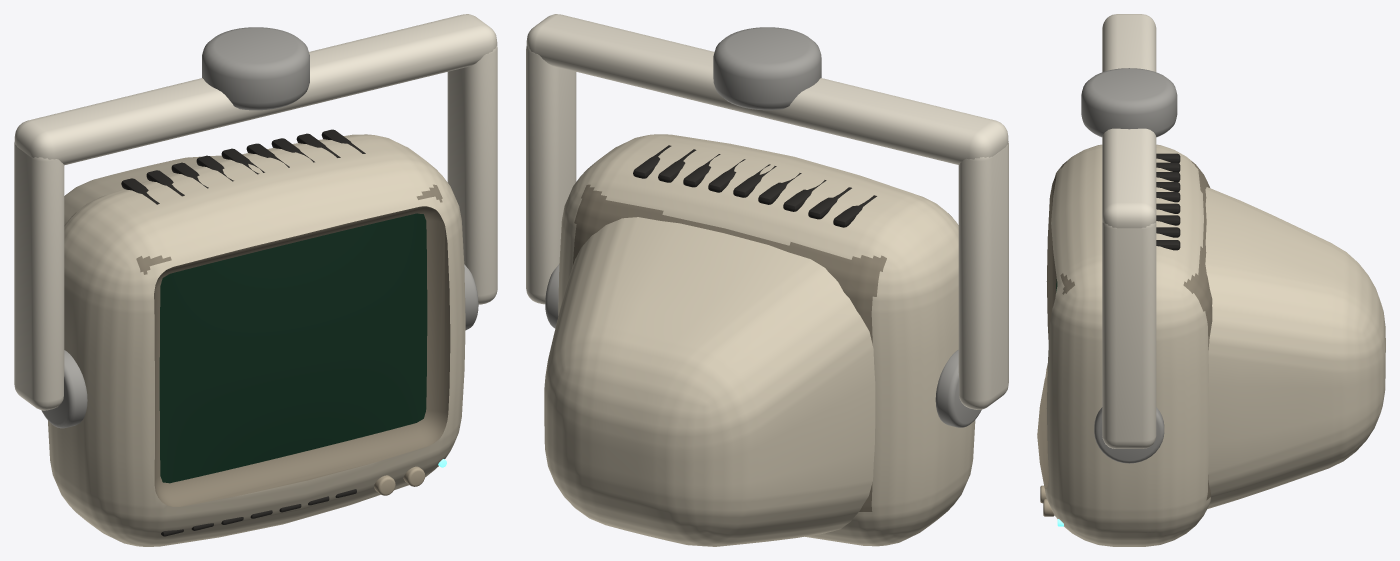
Rendered from monitor.glb.
3 renders of one model, left to right at view 1: azimuth 30°, elevation 25°; view 2: azimuth 150°, elevation 25°; view 3: azimuth 270°, elevation 25°, orthographic. The views are drawn at different scales.
Visible parts, largest first — view 1: Body, Screen, YokeBar, YokeArmL, YokeArmR, Mount, Hood, HubL, HubR; view 2: Hood, Body, YokeBar, YokeArmL, YokeArmR, Mount, HubL, HubR; view 3: Body, Hood, YokeArmR, YokeBar, Mount, HubR.
Boxes of the visible parts, bbox=[...] form: Body: bbox=[48, 134, 465, 546]; Screen: bbox=[159, 213, 427, 483]; YokeBar: bbox=[14, 14, 497, 165]; YokeArmL: bbox=[14, 141, 64, 410]; YokeArmR: bbox=[447, 46, 497, 304]; Mount: bbox=[202, 27, 309, 110]; Hood: bbox=[64, 155, 223, 225]; HubL: bbox=[41, 350, 87, 428]; HubR: bbox=[464, 264, 478, 330]; Hood: bbox=[544, 217, 875, 546]; Body: bbox=[558, 134, 975, 546]; YokeBar: bbox=[526, 14, 1008, 164]; YokeArmL: bbox=[958, 141, 1008, 409]; YokeArmR: bbox=[526, 45, 576, 304]; Mount: bbox=[713, 27, 821, 110]; HubL: bbox=[935, 350, 981, 427]; HubR: bbox=[545, 264, 559, 328]; Body: bbox=[1037, 144, 1212, 546]; Hood: bbox=[1205, 187, 1385, 509]; YokeArmR: bbox=[1102, 222, 1156, 448]; YokeBar: bbox=[1102, 14, 1156, 228]; Mount: bbox=[1081, 68, 1177, 137]; HubR: bbox=[1094, 407, 1164, 463].
Size of the model in its own units: 0.742 by 0.7116 by 0.5461.
